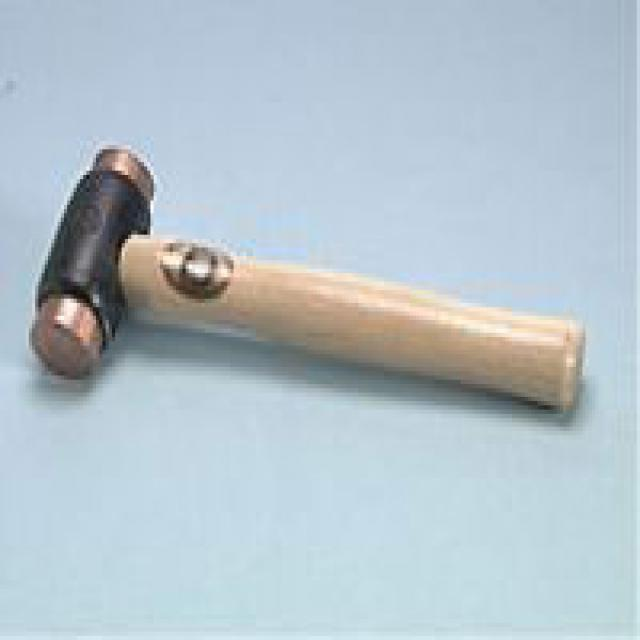hammer: (26, 132, 592, 448)
